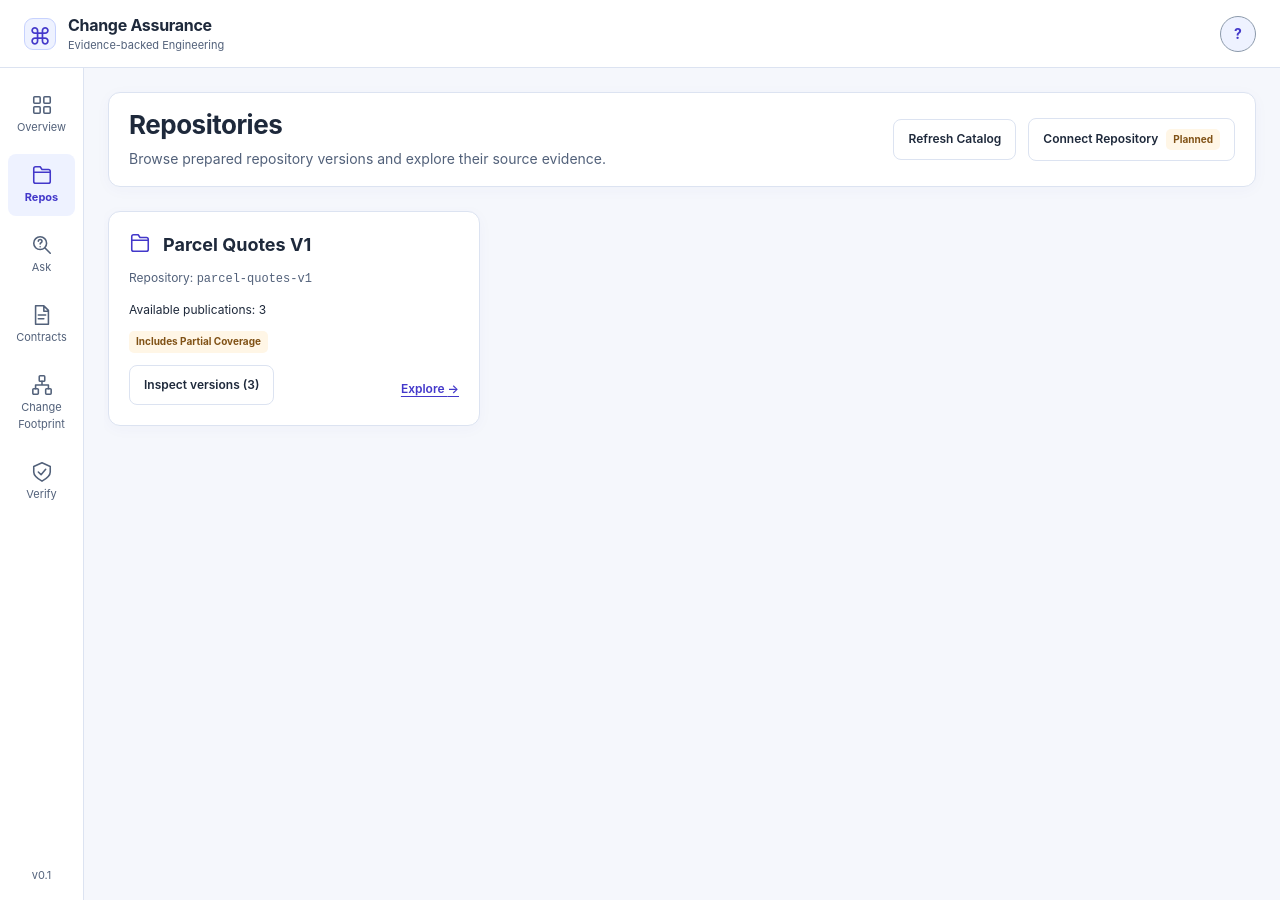
Test: groups repository versions and keeps the connection preview entirely disabled
Check: the element named "Repository parcel-quotes-v1" is shown, box [108,211,480,426]
Check: the text "Available publications: 3" is shown, box [129,302,266,317]
What coordinates should you click on to do the following:
click the button "Connect Repository Planned"
I would click on:
 (1132, 139)
Its box is [1028,118,1235,161].
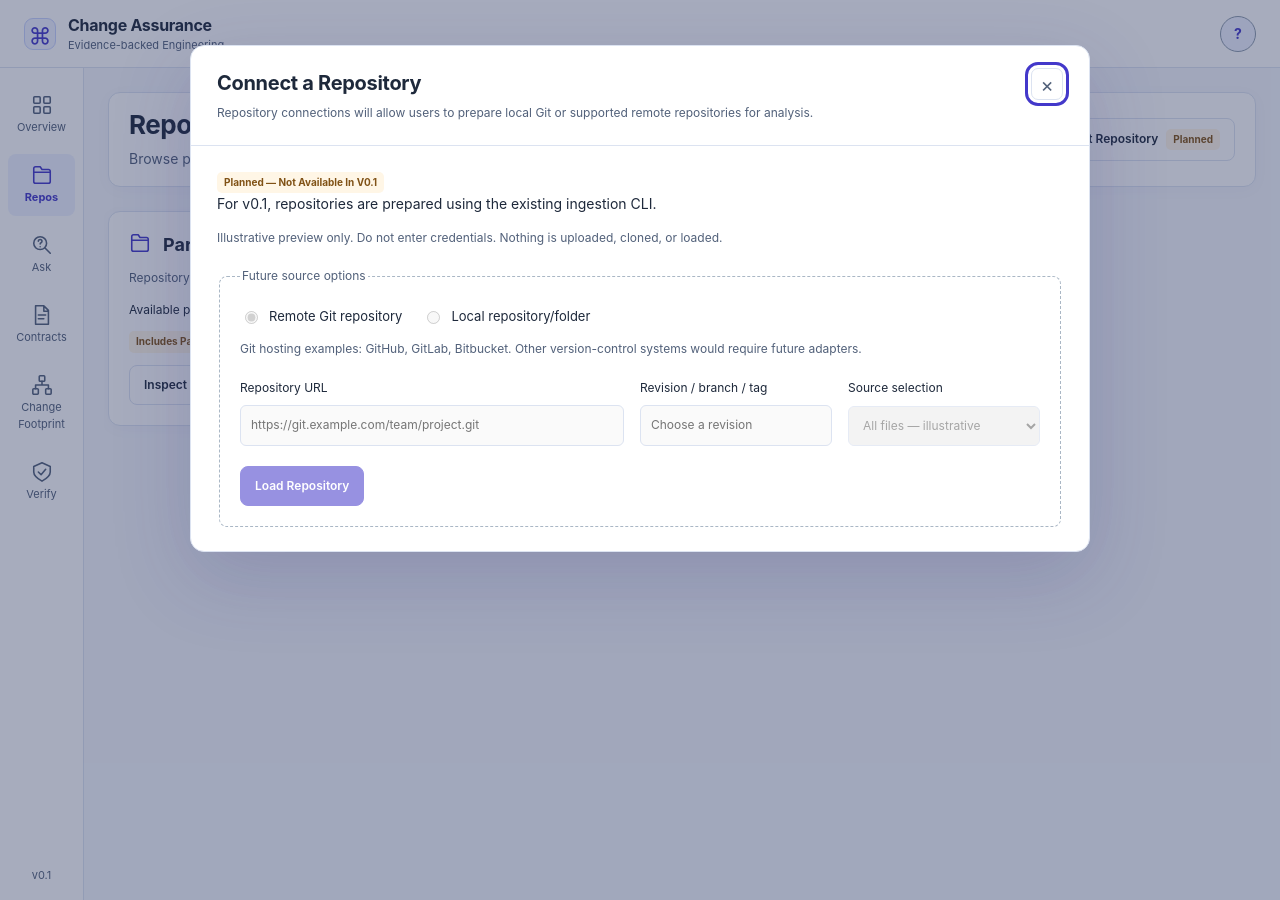
Check: the button "Load Repository" is disabled
Check: the field labelled "Repository URL" is disabled, box [240,405,624,446]
Check: the radio button labelled "Local repository/folder" is disabled, box [427,311,440,324]
What coordinates should you click on to do the following:
click the button "Load Repository"
I would click on:
 (302, 486)
Its box is [240,466,364,506].
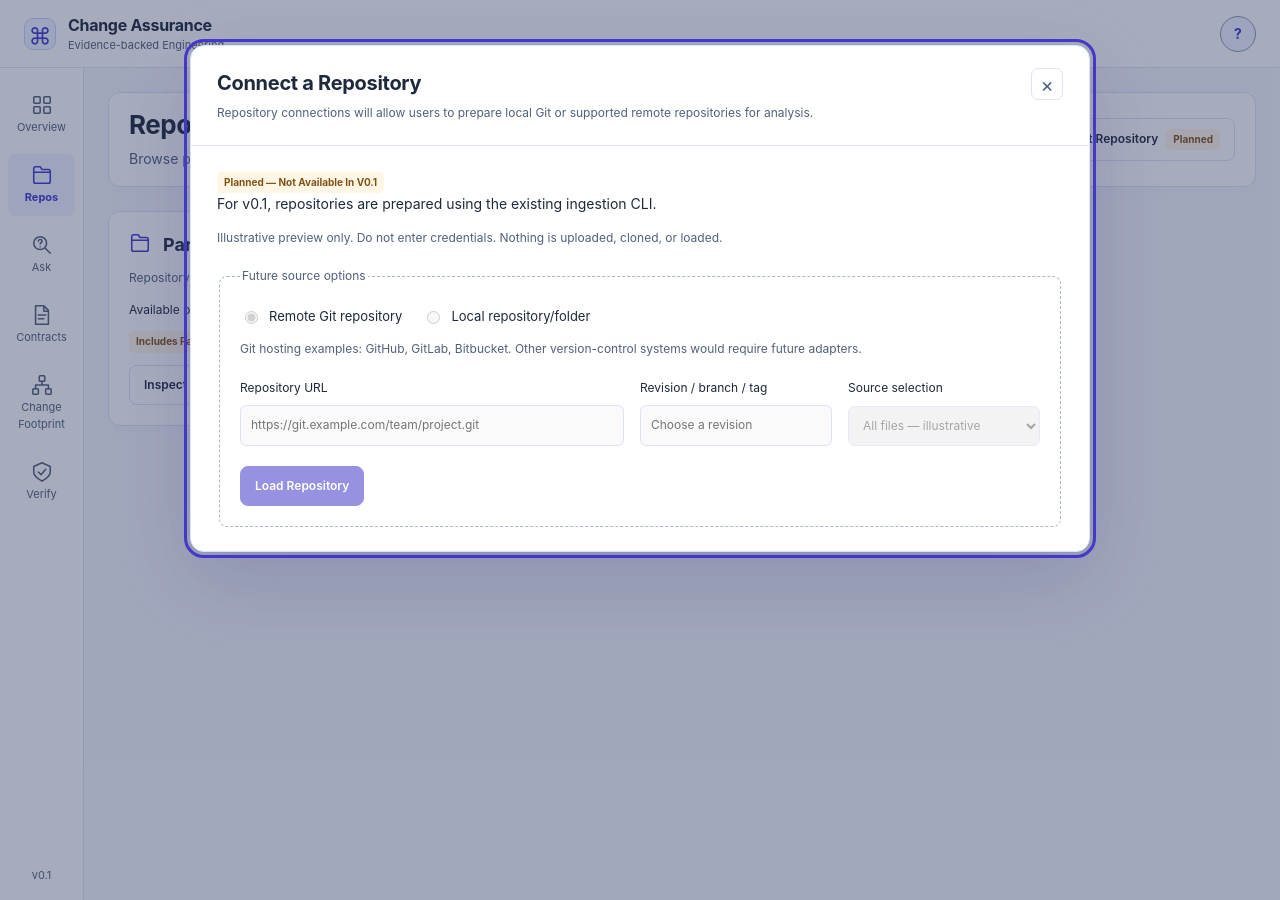
What coordinates should you click on to do the following:
click the button named "Close Connect a Repository"
I would click on:
 (1047, 84)
Its box is [1031,68,1063,100].
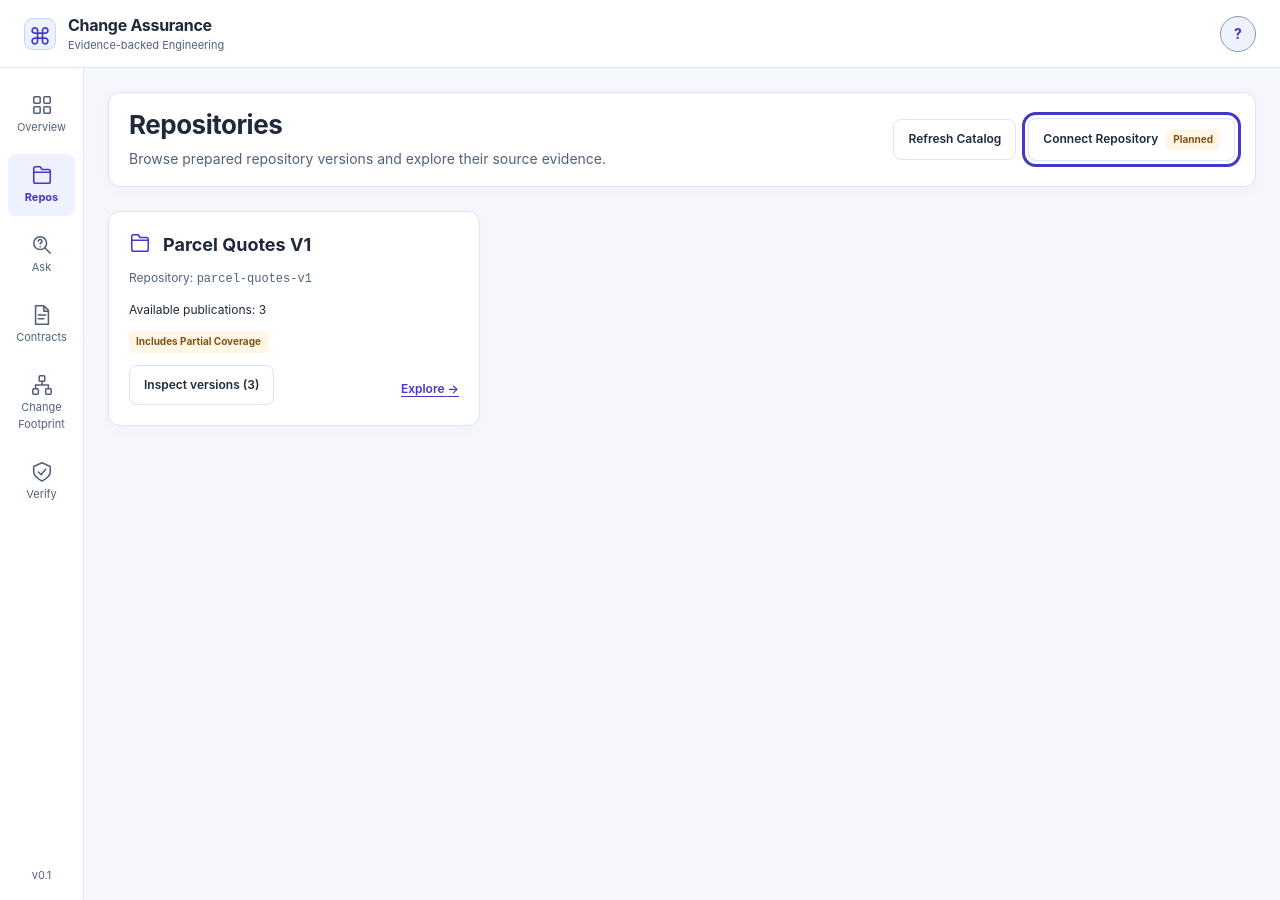
What coordinates should you click on to do the following:
click the button "Inspect versions (3)"
I would click on:
 (202, 385)
Its box is [129,365,274,405].
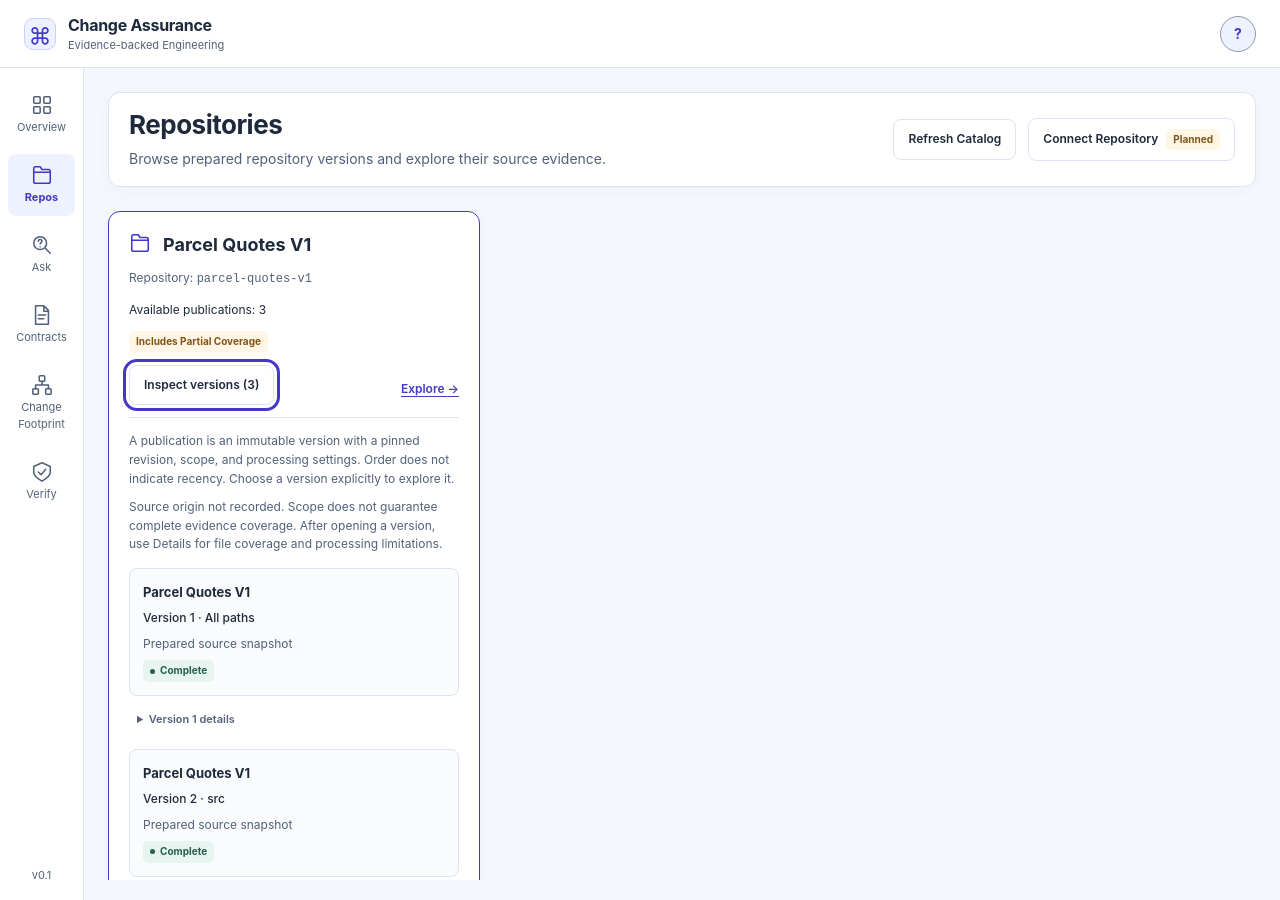
Check: the text "Source origin not recorded" is shown, box [129,499,442,551]
What coordinates should you click on to do the following:
click the button named "Open parcel-quotes-v1, version 2"
I would click on:
 (196, 773)
Its box is [129,749,459,877].
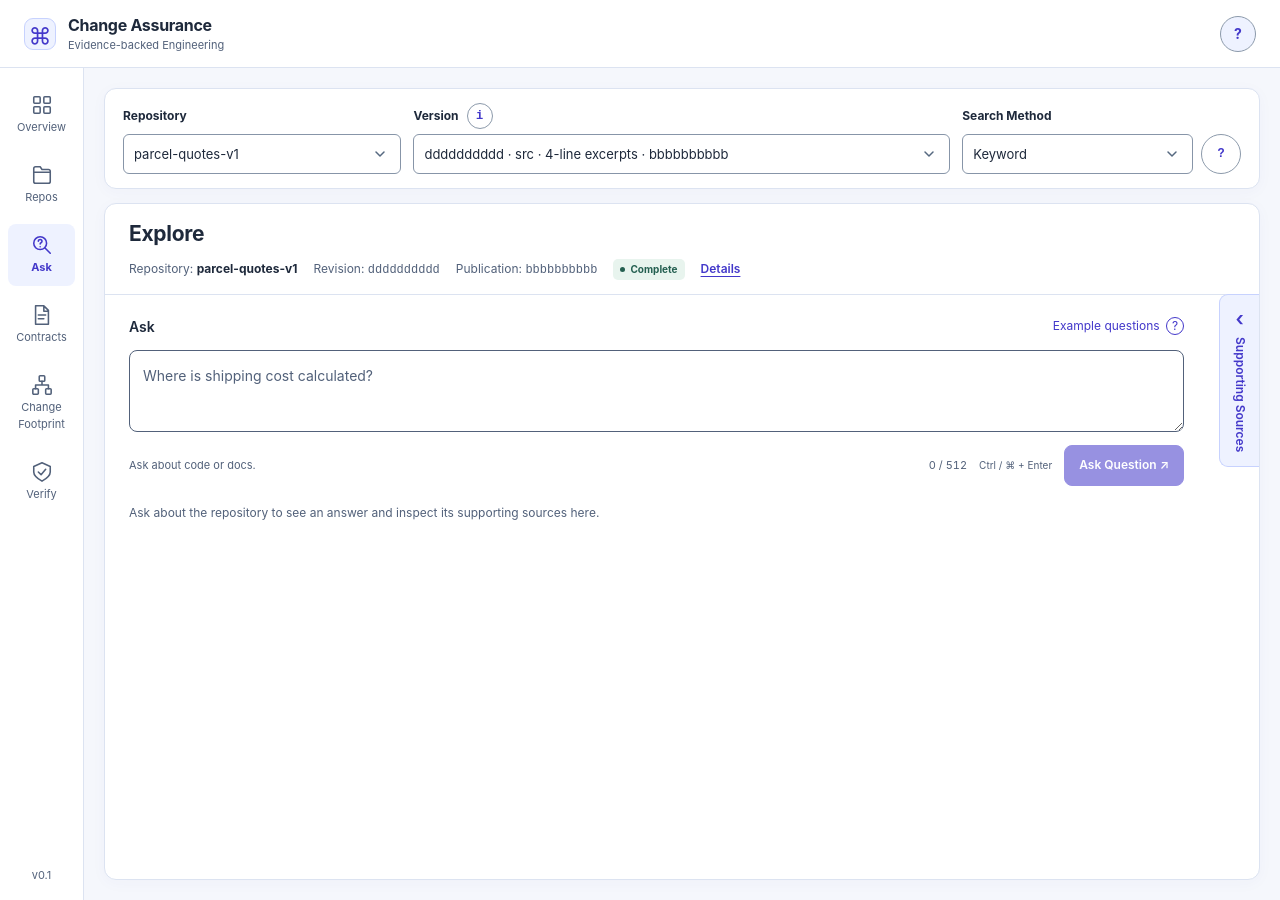
Check: the element named "Question publication" shows "bbbbbbbbbb", box [525,262,597,276]
